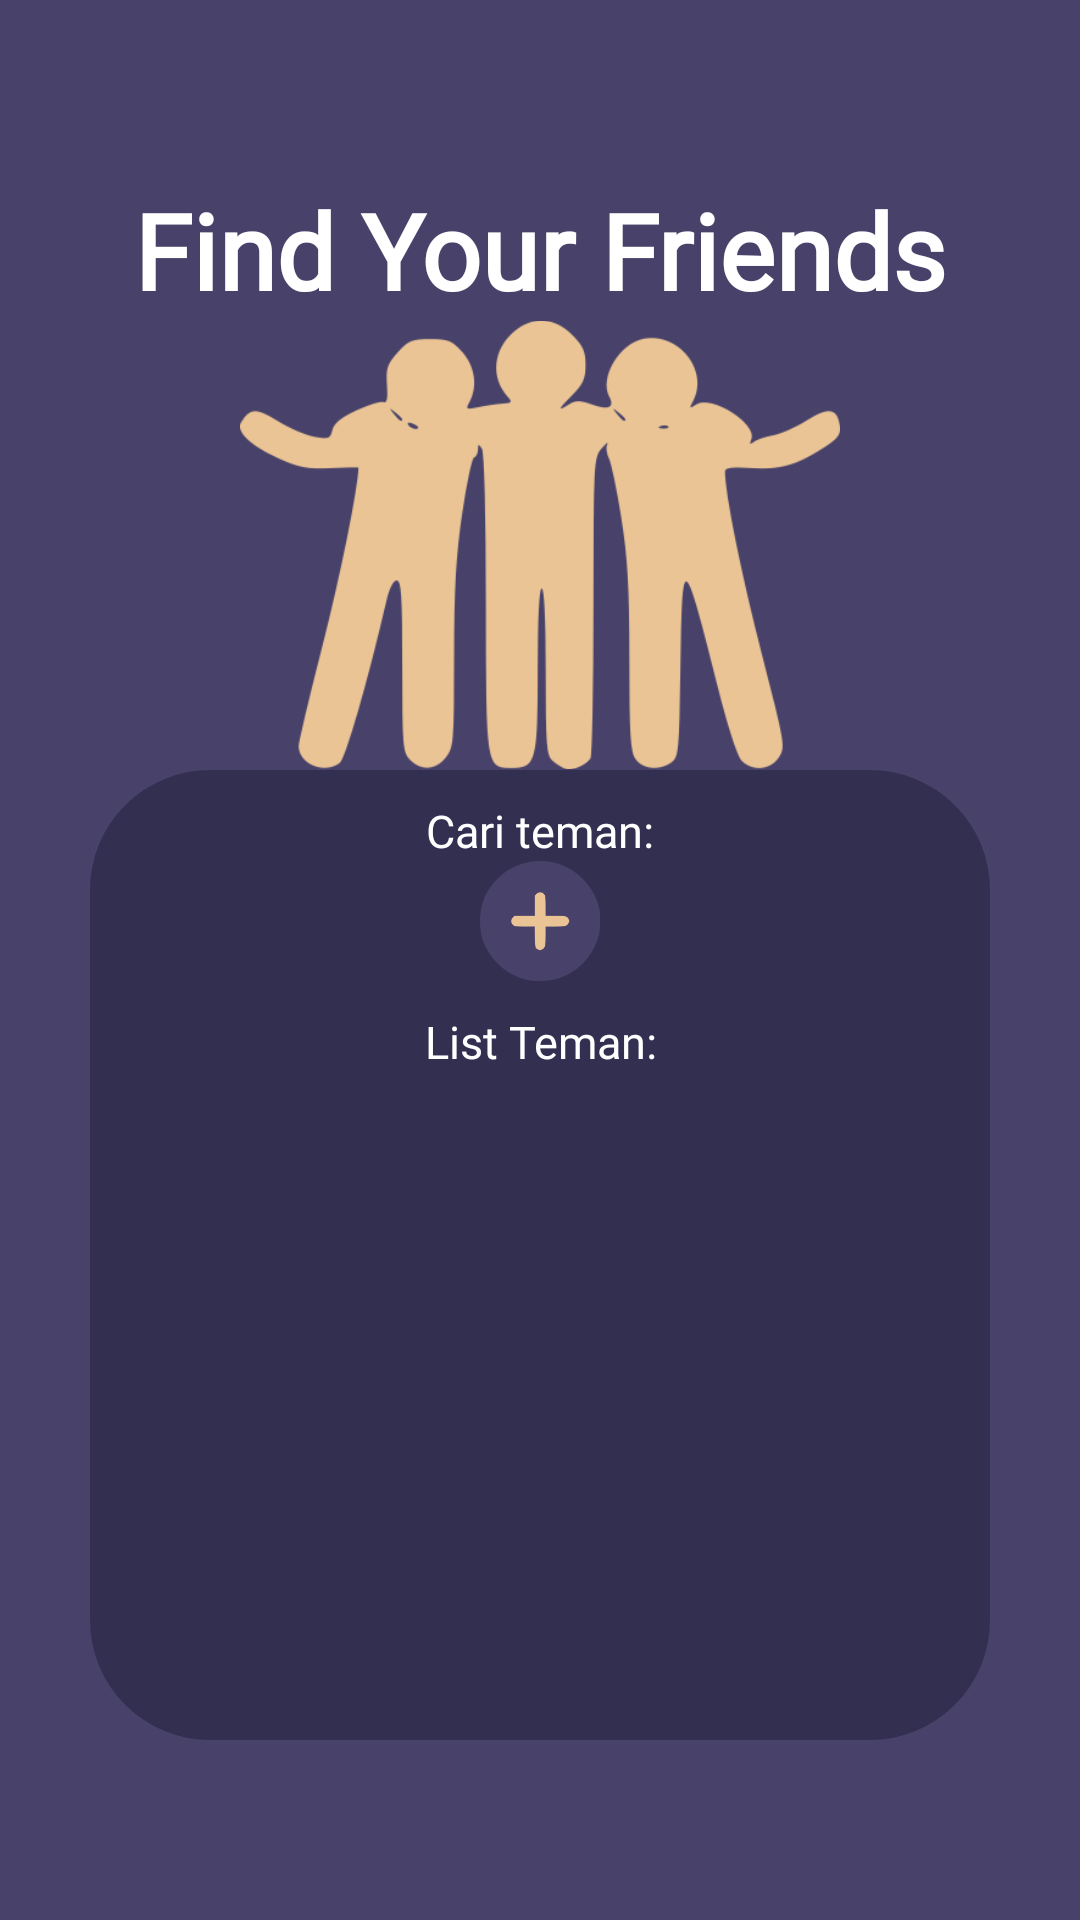

Icons on this 1080px x 1920px Android screen, each with its box as (x1, y1, x2, y2):
Tambahteman: (480, 861, 600, 981)
